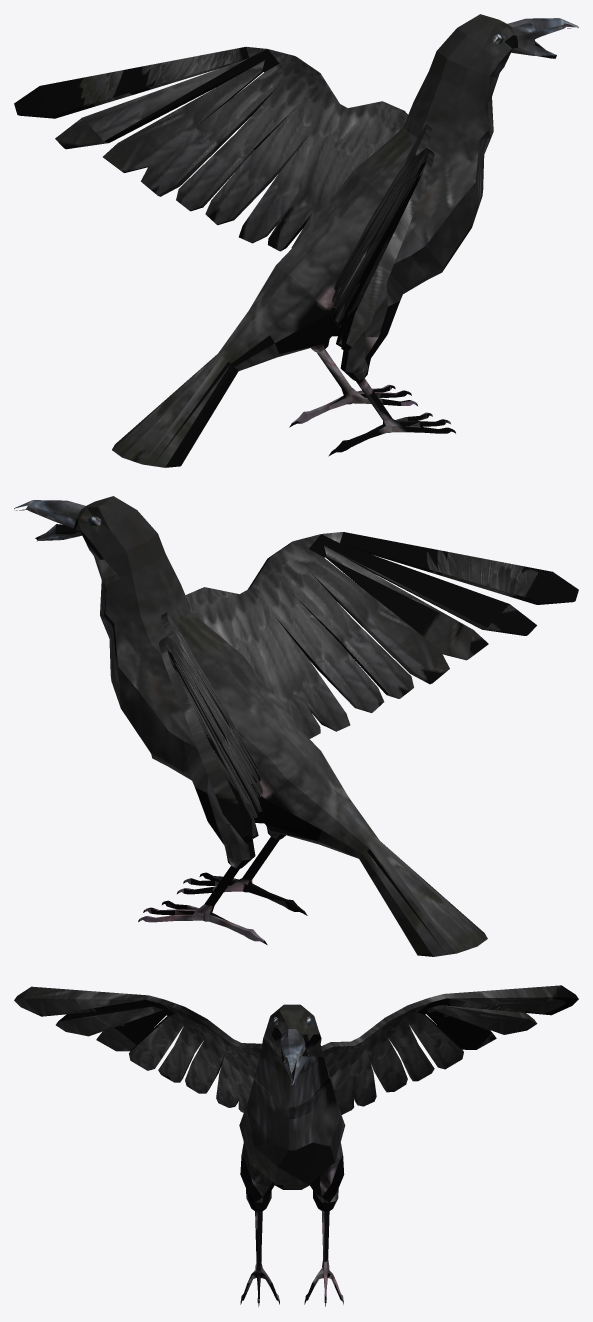
Rendered from crowTextureAnim_000012.obj.
The picture shows the model from 3 angles, top to bottom: view 1: azimuth 30°, elevation 25°; view 2: azimuth 150°, elevation 25°; view 3: azimuth 270°, elevation 25°; orthographic projection. The views are drawn at different scales.
Parts seen in each view (by area): view 1: Cylinder.001, Cylinder.002, Cylinder.003; view 2: Cylinder.001, Cylinder.003, Cylinder.002; view 3: Cylinder.001, Cylinder.002, Cylinder.003.
Boxes of the visible parts, x1,y1,x2,y2 form: Cylinder.001: (112,14,578,467); Cylinder.002: (14,46,407,251); Cylinder.003: (332,124,434,352); Cylinder.001: (14,496,487,956); Cylinder.003: (185,532,578,738); Cylinder.002: (158,612,262,843); Cylinder.001: (239,1004,345,1306); Cylinder.002: (308,985,578,1114); Cylinder.003: (14,986,262,1112).
Bounding box in the file's own units: 5.22 × 4.1 × 6.51.
